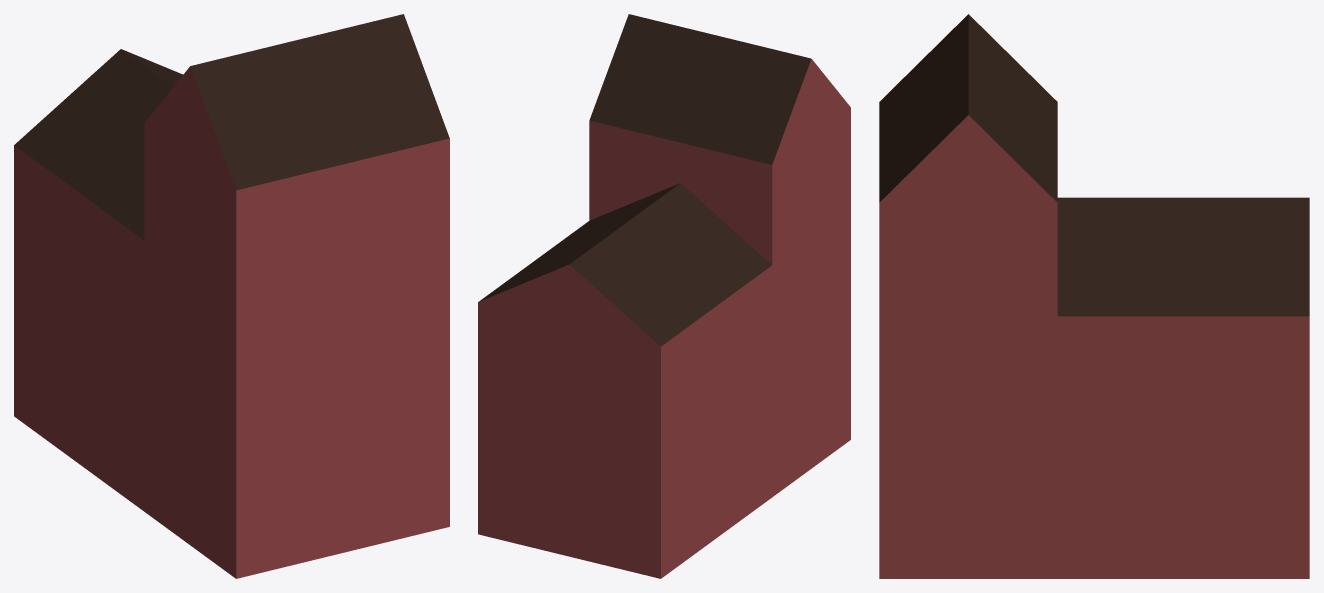
Rendered from FamilyRowhouse.fbx.
3 renders of one model, left to right at view 1: azimuth 30°, elevation 25°; view 2: azimuth 150°, elevation 25°; view 3: azimuth 270°, elevation 25°, orthographic. The views are drawn at different scales.
Parts seen in each view (by area): view 1: Cube; view 2: Cube; view 3: Cube.
Boxes of the visible parts, left/top/right/bottom form: Cube: left=14, top=14, right=449, bottom=578; Cube: left=478, top=14, right=850, bottom=578; Cube: left=879, top=14, right=1309, bottom=578.
Bounding box in the file's own units: 268 × 575 × 483.
